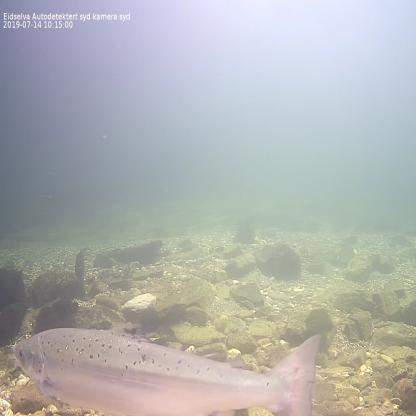salmon: (11, 320, 326, 416)
